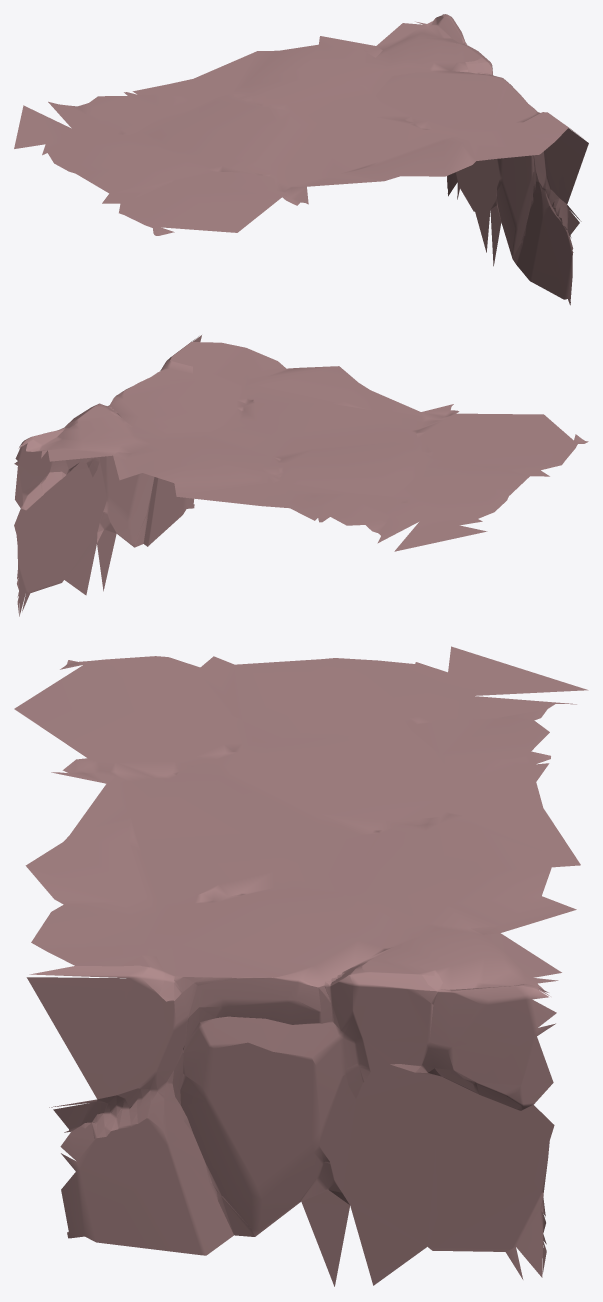
Rendered from cliff_area_2.fbx_Cliff_Area_2_014LODs.fbx.
The picture shows the model from 3 angles, top to bottom: view 1: azimuth 30°, elevation 25°; view 2: azimuth 150°, elevation 25°; view 3: azimuth 270°, elevation 25°; orthographic projection. The views are drawn at different scales.
Visible parts, largest first — view 1: Cliff Area 2.014_LOD0; view 2: Cliff Area 2.014_LOD0; view 3: Cliff Area 2.014_LOD0.
Boxes of the visible parts, left/top/right/bottom form: Cliff Area 2.014_LOD0: left=14, top=14, right=588, bottom=305; Cliff Area 2.014_LOD0: left=14, top=335, right=588, bottom=616; Cliff Area 2.014_LOD0: left=14, top=646, right=588, bottom=1286.
Size of what is drawn, in the model's own units: 4087 by 1704 by 2817.
